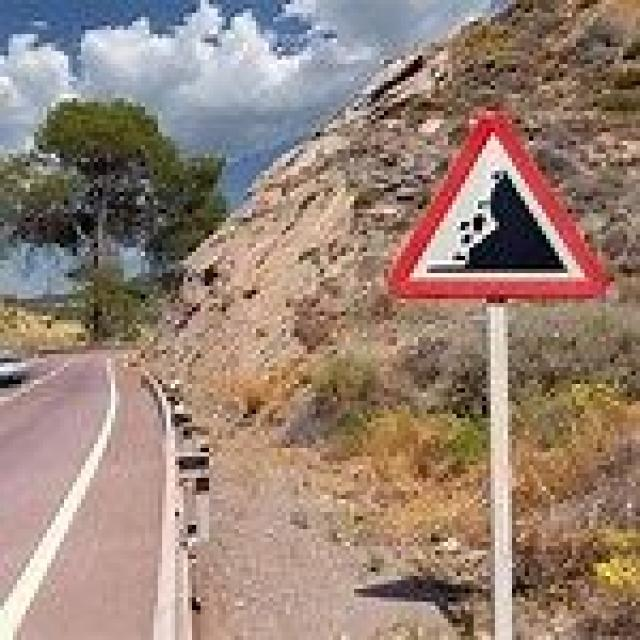FALLING_ROCKS: (387, 108, 606, 303)
